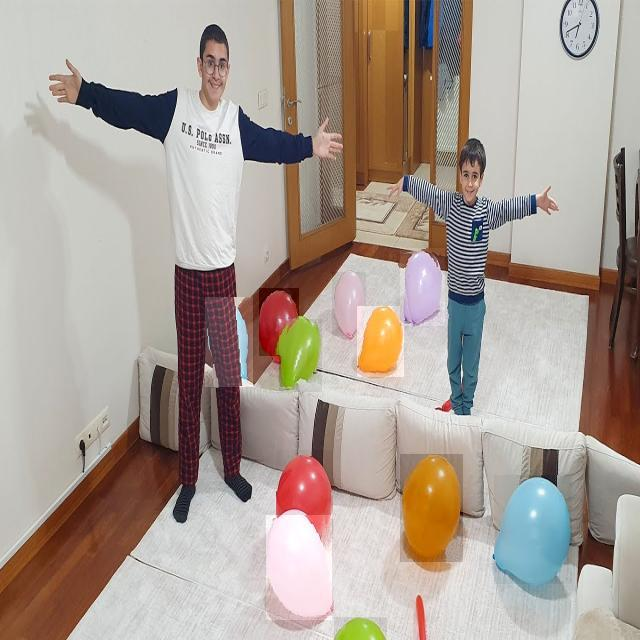balloon: (493, 475, 572, 584), (266, 515, 332, 620), (400, 454, 463, 562), (277, 450, 333, 532), (205, 298, 253, 388), (400, 248, 445, 326), (357, 306, 404, 377), (279, 319, 322, 392), (259, 288, 299, 356), (332, 272, 366, 336), (334, 617, 387, 640)
